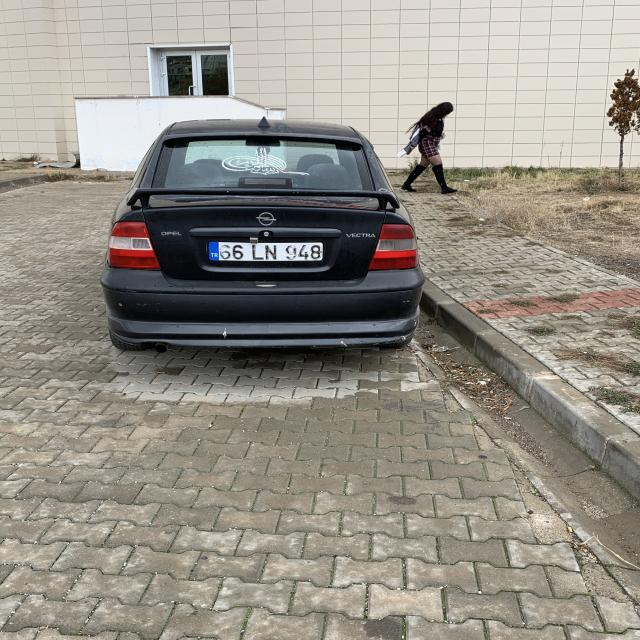license_plate: (207, 240, 325, 262)
